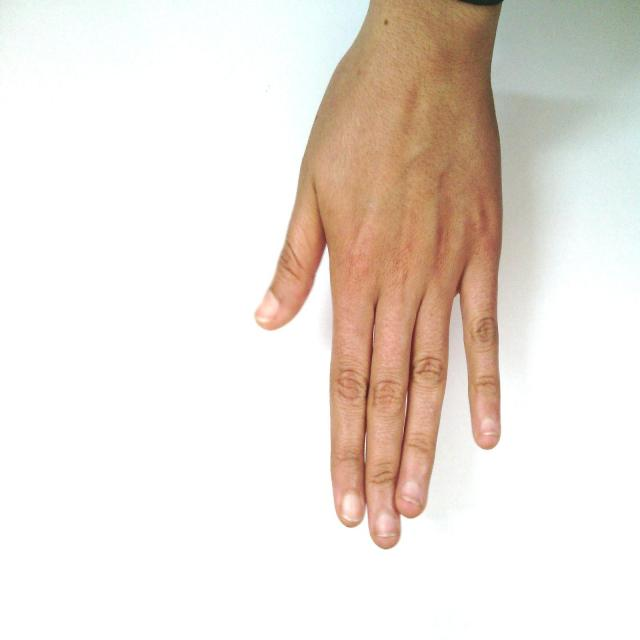others: (225, 0, 590, 552)
